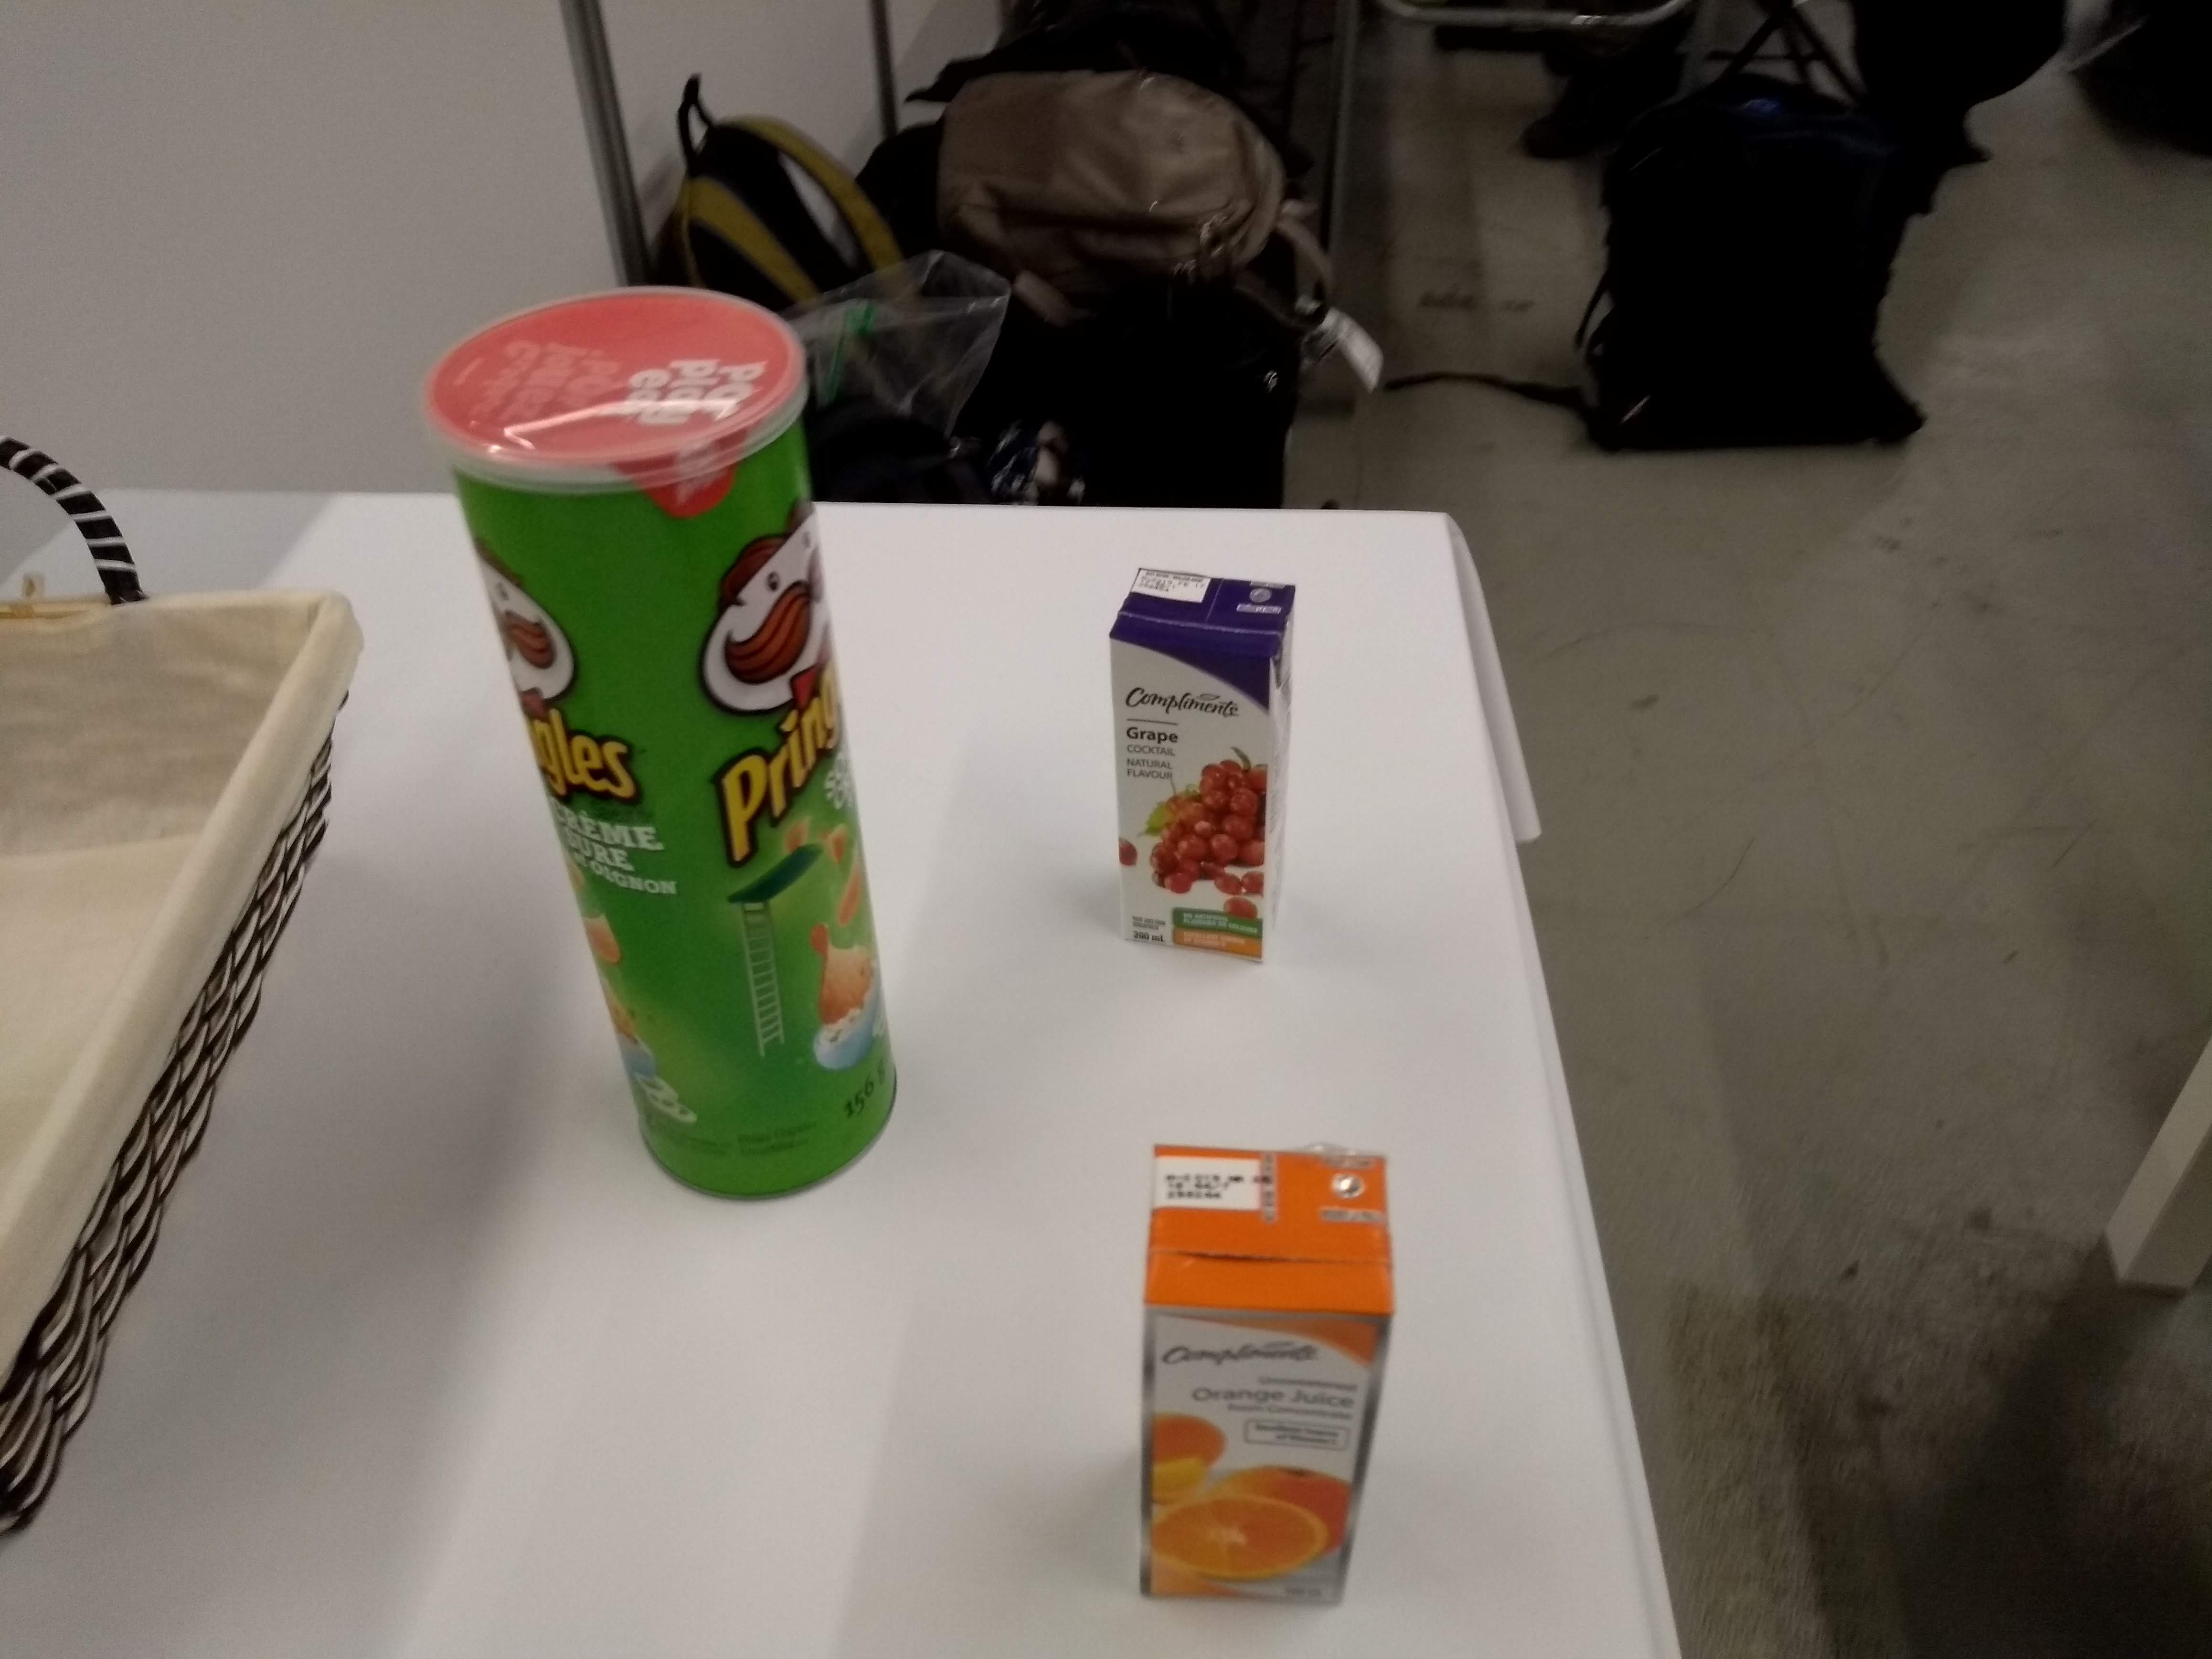grape_juice: (1103, 559, 1310, 976)
orange_juice: (1120, 1131, 1404, 1621)
pringles: (409, 279, 911, 1213)
